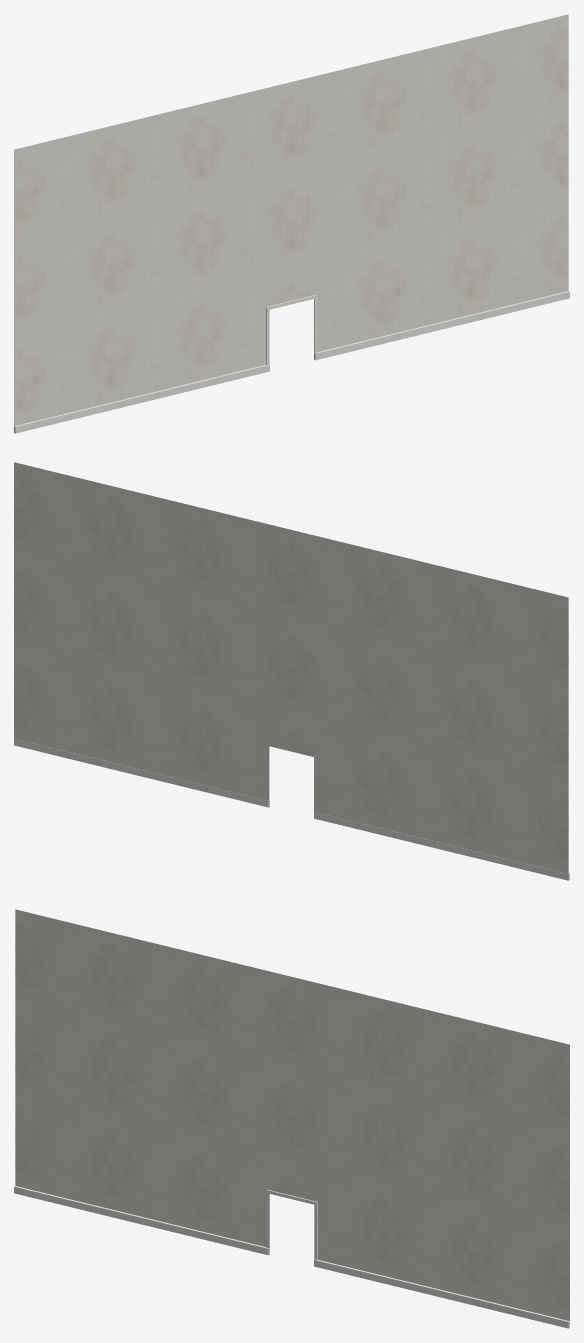
File: wall_hatch.gltf
The picture shows the model from 3 angles, top to bottom: view 1: azimuth 30°, elevation 25°; view 2: azimuth 150°, elevation 25°; view 3: azimuth 330°, elevation 25°; orthographic projection.
Visible parts, largest first — view 1: jx_w_hatch; view 2: jx_w_hatch; view 3: jx_w_hatch.
Boxes of the visible parts, x1,y1,x2,y2 form: jx_w_hatch: (14,14,569,433); jx_w_hatch: (14,462,569,880); jx_w_hatch: (14,909,569,1328).
Size of the model in its own units: 12.3 by 6 by 0.05.
Materials: 2 (2 with a texture image).
